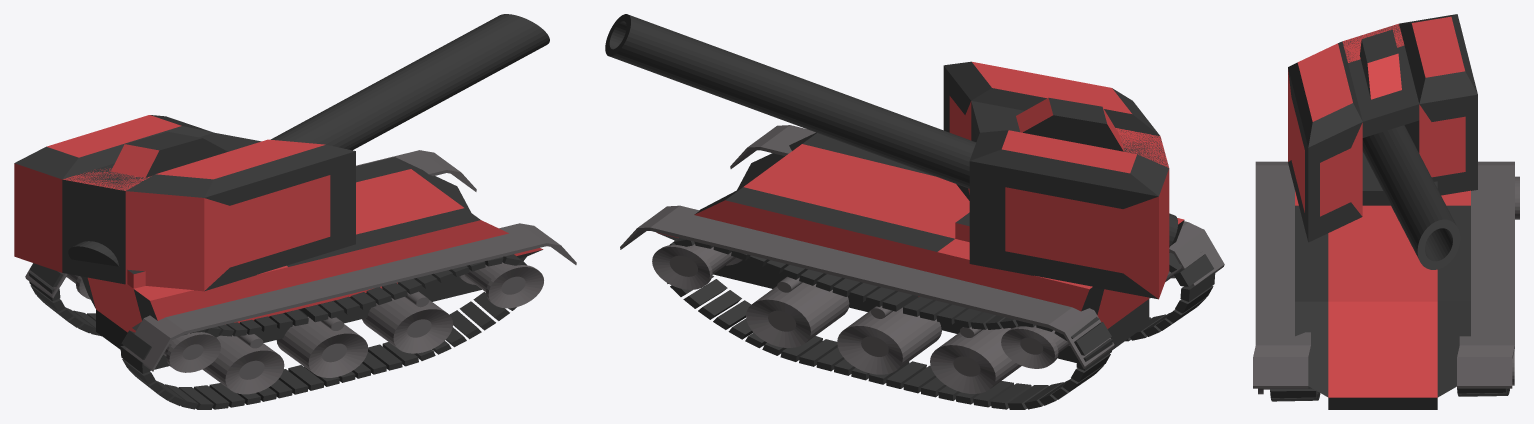
The model's file is red arty final.fbx.
The picture shows the model from 3 angles, left to right: view 1: azimuth 30°, elevation 25°; view 2: azimuth 150°, elevation 25°; view 3: azimuth 270°, elevation 25°; orthographic projection. The views are drawn at different scales.
Parts seen in each view (by area): view 1: Cube.003, Cube, Cylinder, Cube.000, Cube.002, Cylinder.025, Cylinder.011, Cylinder.023, Cylinder.022, Cylinder.021, Cube.001; view 2: Cube.003, Cube, Cylinder, Cube.002, Cube.001, Cylinder.000, Cylinder.002, Cylinder.014, Cylinder.003, Cube.000, Cylinder.004; view 3: Cube, Cube.003, Cube.002, Cylinder, Cube.000, Cube.001.
Part boxes in pixels (x1,y1,x2,y2): Cube.003: [14, 115, 355, 291]; Cube: [81, 157, 543, 369]; Cylinder: [68, 14, 549, 266]; Cube.000: [120, 254, 526, 409]; Cube.002: [25, 150, 576, 371]; Cylinder.025: [276, 316, 368, 377]; Cylinder.011: [362, 297, 452, 353]; Cylinder.023: [202, 335, 284, 394]; Cylinder.022: [459, 262, 543, 308]; Cylinder.021: [163, 332, 220, 372]; Cube.001: [28, 263, 101, 336]; Cube.003: [943, 61, 1169, 299]; Cube: [656, 132, 1184, 362]; Cylinder: [605, 14, 1177, 247]; Cube.002: [620, 125, 1224, 368]; Cube.001: [667, 238, 1112, 409]; Cylinder.000: [837, 307, 941, 374]; Cylinder.002: [746, 282, 849, 347]; Cylinder.014: [930, 328, 1021, 393]; Cylinder.003: [652, 244, 742, 289]; Cube.000: [1125, 252, 1215, 341]; Cylinder.004: [1001, 325, 1069, 368]; Cube: [1295, 152, 1470, 409]; Cube.003: [1288, 14, 1477, 242]; Cube.002: [1253, 161, 1514, 388]; Cylinder: [1362, 125, 1460, 269]; Cube.000: [1270, 386, 1320, 401]; Cube.001: [1457, 388, 1509, 396].
Bounding box in the file's own units: 978 × 449 × 428.
